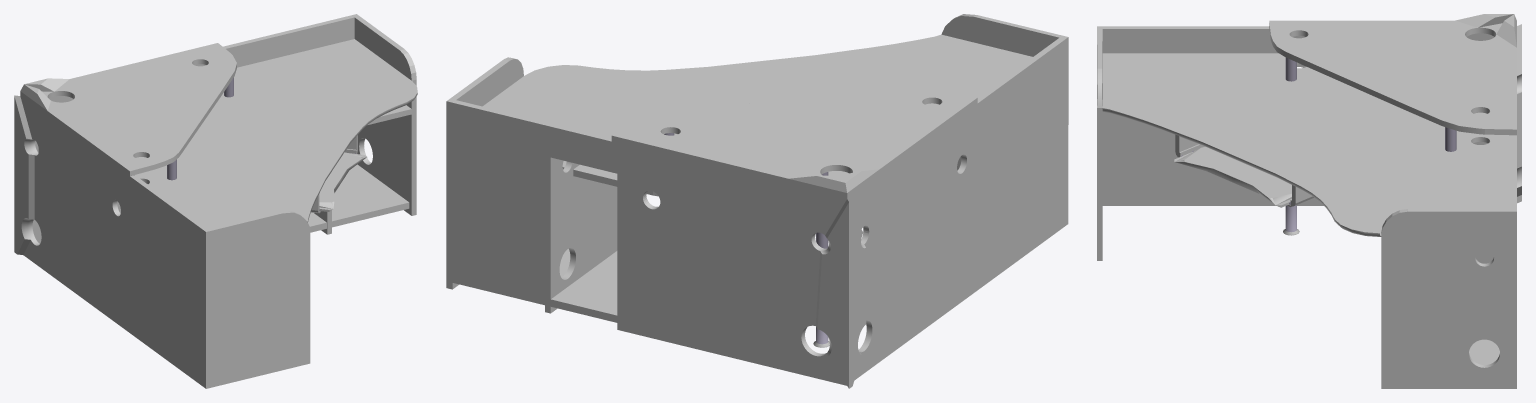
The picture shows the model from 3 angles, left to right: view 1: azimuth 30°, elevation 25°; view 2: azimuth 150°, elevation 25°; view 3: azimuth 270°, elevation 25°; orthographic projection. The views are drawn at different scales.
Visible parts, largest first — view 1: Stol, Platforma01; view 2: Stol; view 3: Stol, Platforma01.
Boxes of the visible parts, <box> form: Stol: <box>14,14,417,388</box>; Platforma01: <box>319,152,366,211</box>; Stol: <box>446,14,1068,388</box>; Stol: <box>1097,14,1521,388</box>; Platforma01: <box>1174,146,1291,207</box>.
Bounding box in the file's own units: 202 × 95.81 × 193.
